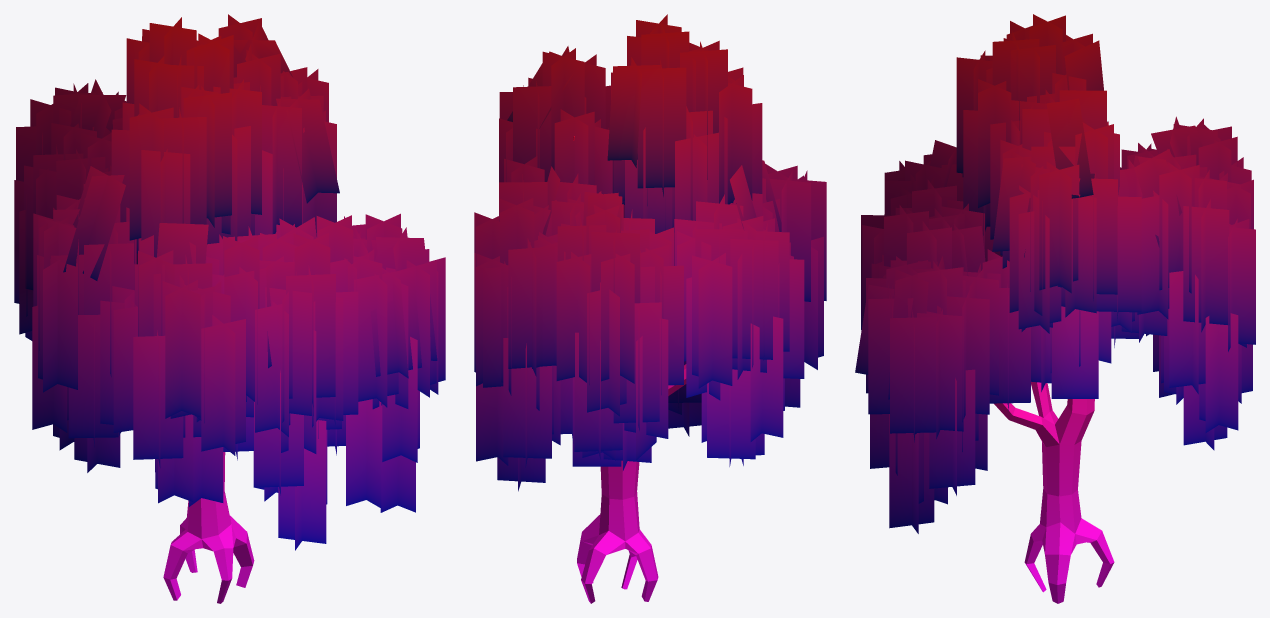
The model's file is synty-tree-willow-large-01.gltf.
The picture shows the model from 3 angles, left to right: view 1: azimuth 30°, elevation 25°; view 2: azimuth 150°, elevation 25°; view 3: azimuth 270°, elevation 25°; orthographic projection. The views are drawn at different scales.
Visible parts, largest first — view 1: SM_Tree_Willow_Large_01; view 2: SM_Tree_Willow_Large_01; view 3: SM_Tree_Willow_Large_01.
Part boxes in pixels (x1,y1,x2,y2): SM_Tree_Willow_Large_01: [14, 14, 445, 603]; SM_Tree_Willow_Large_01: [474, 14, 826, 603]; SM_Tree_Willow_Large_01: [855, 14, 1255, 603].
Bounding box in the file's own units: 5.8 × 9.62 × 6.35.
